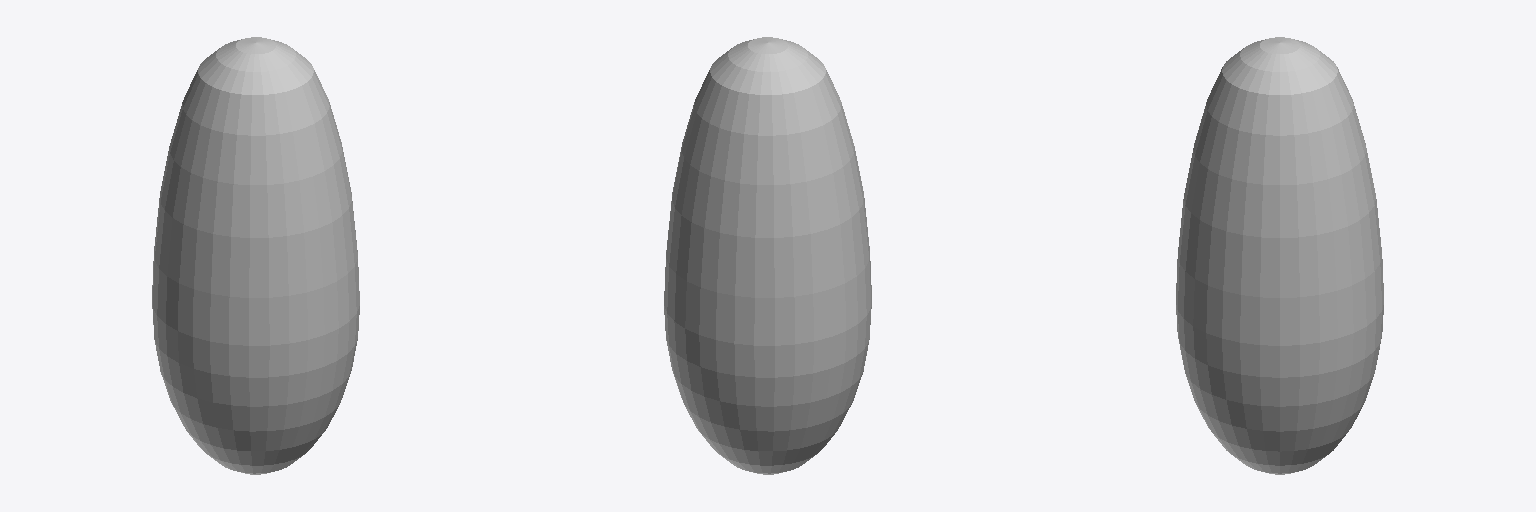
The model's file is slime_long.obj.
3 views of the same model, side by side, from view 1: azimuth 30°, elevation 25°; view 2: azimuth 150°, elevation 25°; view 3: azimuth 270°, elevation 25° (orthographic).
Parts seen in each view (by area): view 1: Mesh_Sphere.001; view 2: Mesh_Sphere.001; view 3: Mesh_Sphere.001.
Part boxes in pixels (left/top/right/bottom): Mesh_Sphere.001: left=152, top=37, right=359, bottom=474; Mesh_Sphere.001: left=664, top=37, right=871, bottom=474; Mesh_Sphere.001: left=1176, top=37, right=1383, bottom=474.
Size of the model in its own units: 2 by 4.51 by 2.